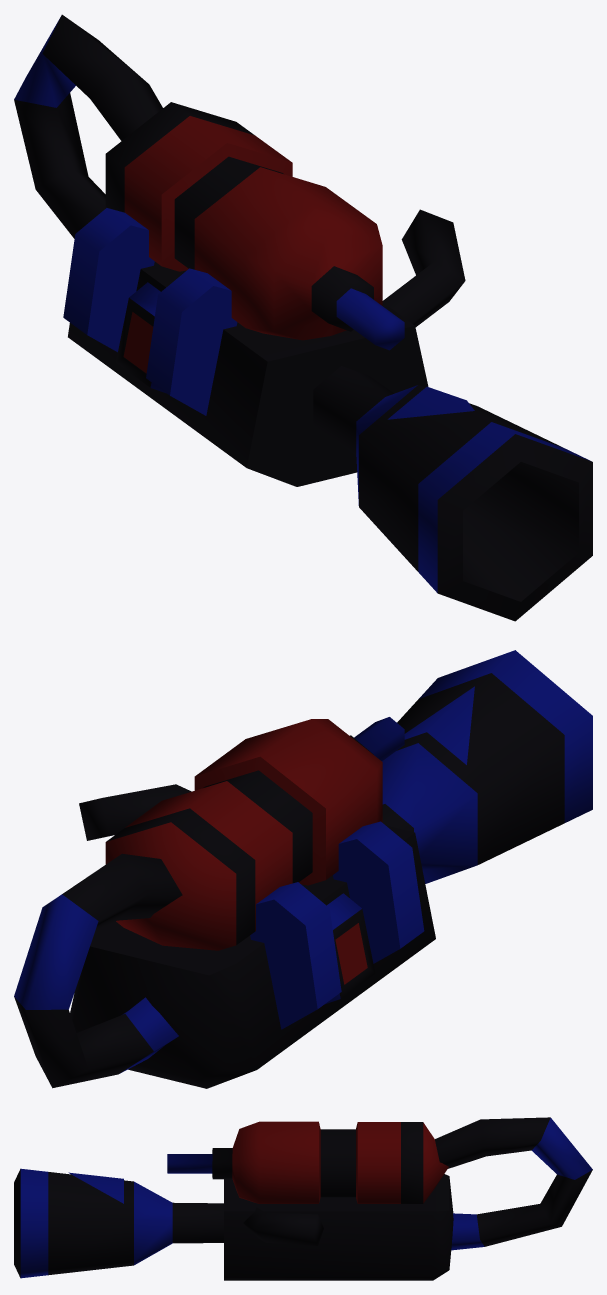
File: 01_player_F_3_W.FBX
The picture shows the model from 3 angles, top to bottom: view 1: azimuth 30°, elevation 25°; view 2: azimuth 150°, elevation 25°; view 3: azimuth 270°, elevation 25°; orthographic projection. The views are drawn at different scales.
Parts seen in each view (by area): view 1: 01_player_F_3_W; view 2: 01_player_F_3_W; view 3: 01_player_F_3_W.
Boxes of the visible parts, <box> form: 01_player_F_3_W: <box>14,14,592,621</box>; 01_player_F_3_W: <box>14,650,592,1088</box>; 01_player_F_3_W: <box>14,1117,592,1280</box>.
Bounding box in the file's own units: 49.25 × 41.2 × 134.
